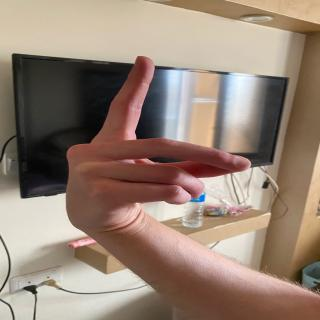TAA: (66, 43, 263, 236)
